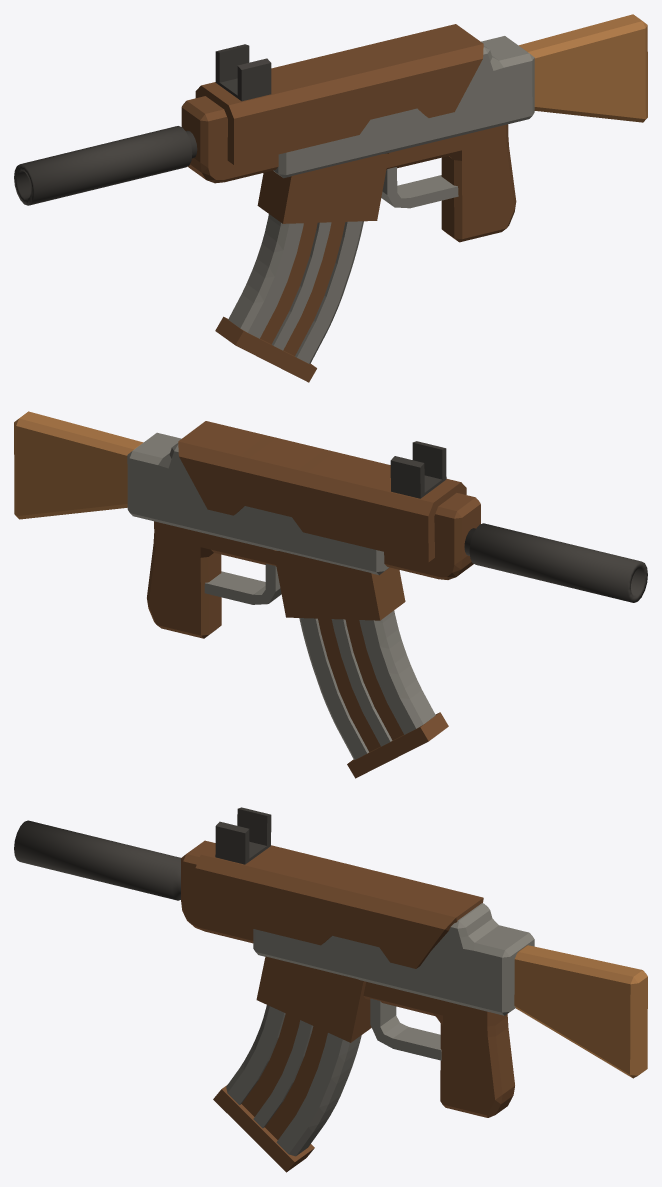
The picture shows the model from 3 angles, top to bottom: view 1: azimuth 30°, elevation 25°; view 2: azimuth 150°, elevation 25°; view 3: azimuth 330°, elevation 25°; orthographic projection.
Parts seen in each view (by area): view 1: part_0; view 2: part_0; view 3: part_0.
Part boxes in pixels (x1,y1,x2,y2): part_0: [14, 14, 647, 382]; part_0: [14, 411, 647, 778]; part_0: [14, 807, 647, 1172].
Size of the model in its own units: 1.42 by 0.7303 by 0.1537.
